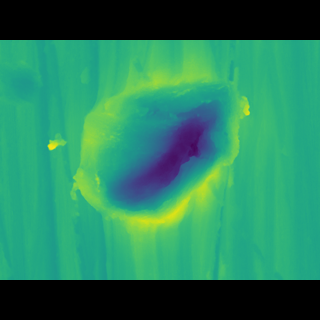Loch: (64, 91, 261, 224)
